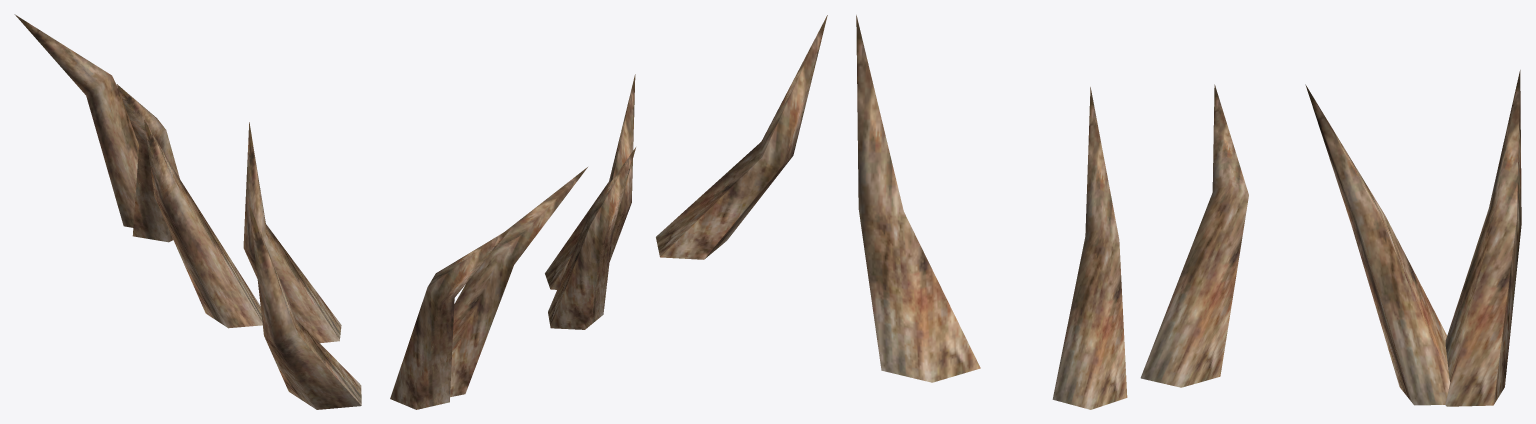
The model's file is hrz106.glb.
3 renders of one model, left to right at view 1: azimuth 30°, elevation 25°; view 2: azimuth 150°, elevation 25°; view 3: azimuth 270°, elevation 25°, orthographic. The views are drawn at different scales.
Parts seen in each view (by area): view 1: hrz106; view 2: hrz106; view 3: hrz106.
Part boxes in pixels (<box>): hrz106: <box>14,14,361,409</box>; hrz106: <box>390,15,827,409</box>; hrz106: <box>856,15,1521,409</box>.
Bounding box in the file's own units: 4.76 × 5.76 × 12.08.
Materials: 1 (1 with a texture image).
